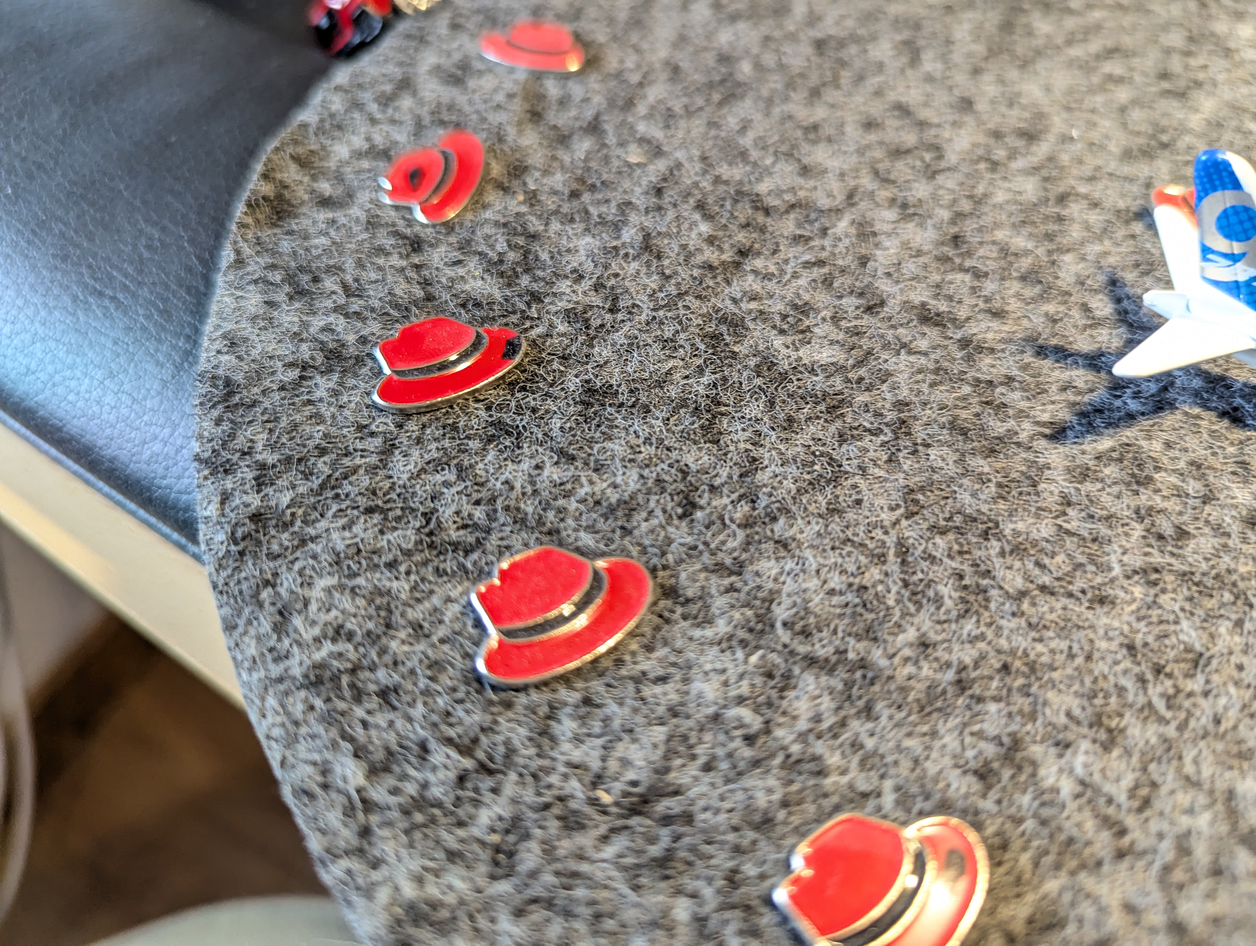Red-Hat: (436, 531, 707, 734), (766, 783, 1022, 946), (356, 296, 545, 426), (373, 115, 488, 230), (462, 3, 613, 81)
Scratch: (932, 838, 985, 904), (490, 326, 539, 364), (399, 156, 436, 204)
